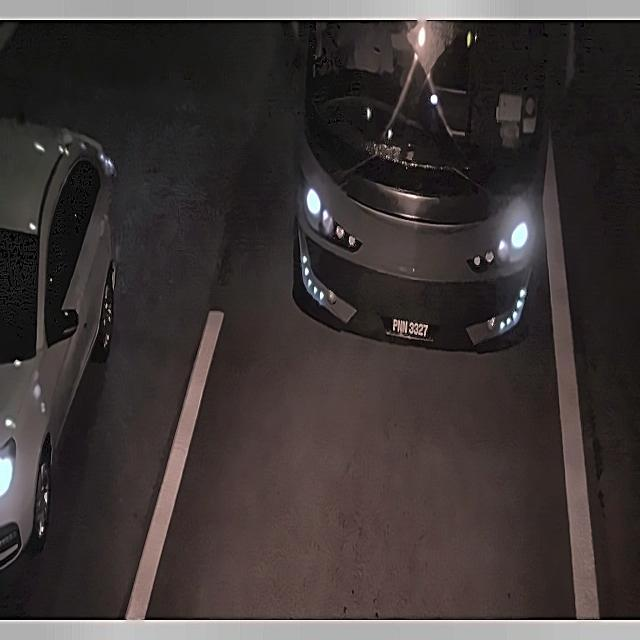car: (380, 306, 438, 345)
